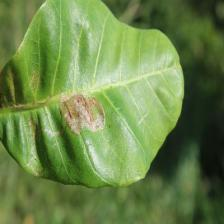leaf miner: (54, 79, 116, 140)
